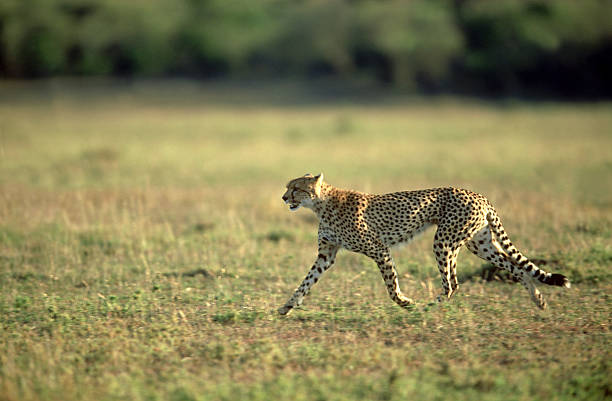cheetah: (280, 163, 332, 217)
